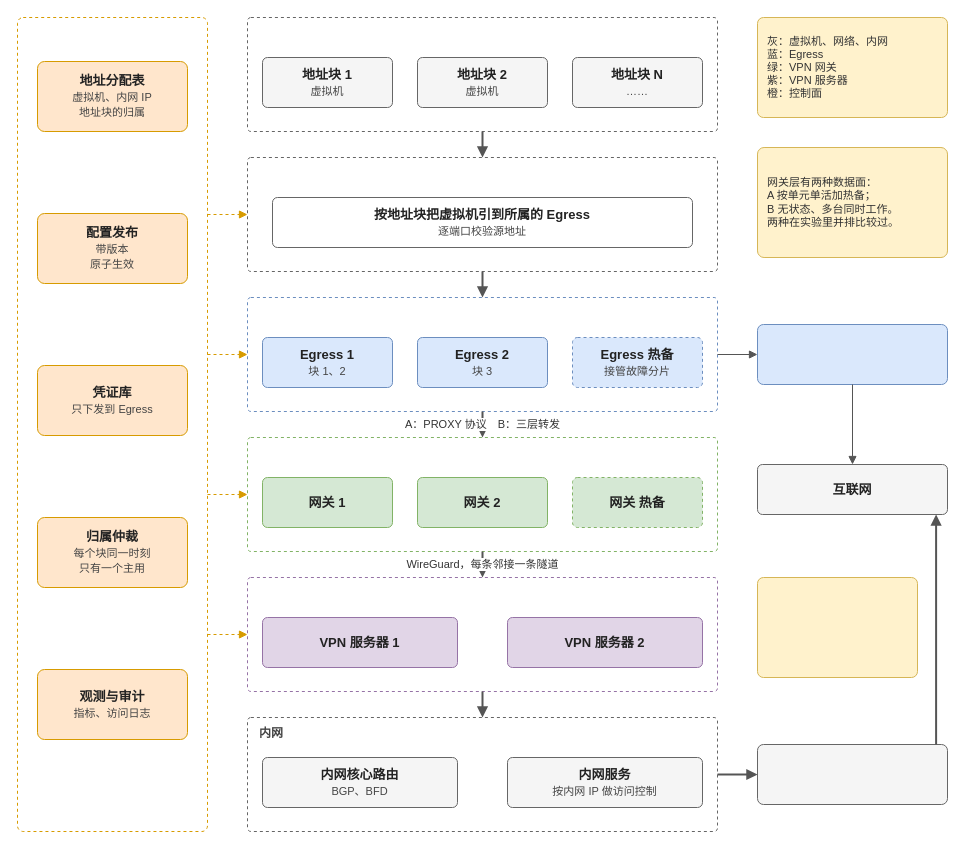
The diagram is 965 pixels wide and 849 high, and some of its shapes have lost their labels. The shapes that lost their labels are listed below. From the top down, each one's box as (x1, y1, x2, y2) in pixels, then its label:
(246, 16, 718, 132): 虚拟机（按地址块分组）
(246, 156, 718, 272): 接入层
(246, 296, 718, 412): Egress 分片
(756, 324, 948, 384): 本地直出（例外） 出口地址池、域名策略、审计
(16, 16, 208, 832): 控制面
(246, 436, 718, 552): VPN 网关
(246, 576, 718, 692): VPN 服务器（多台同时工作）
(756, 576, 918, 678): 去互联网默认和去内网 走同一条路，从企业出口 出去；配置成例外的才 从 Egress 直接出去。
(756, 744, 948, 804): 企业互联网出口（默认） 经隧道和内网到这里 安全管控设备在这里
